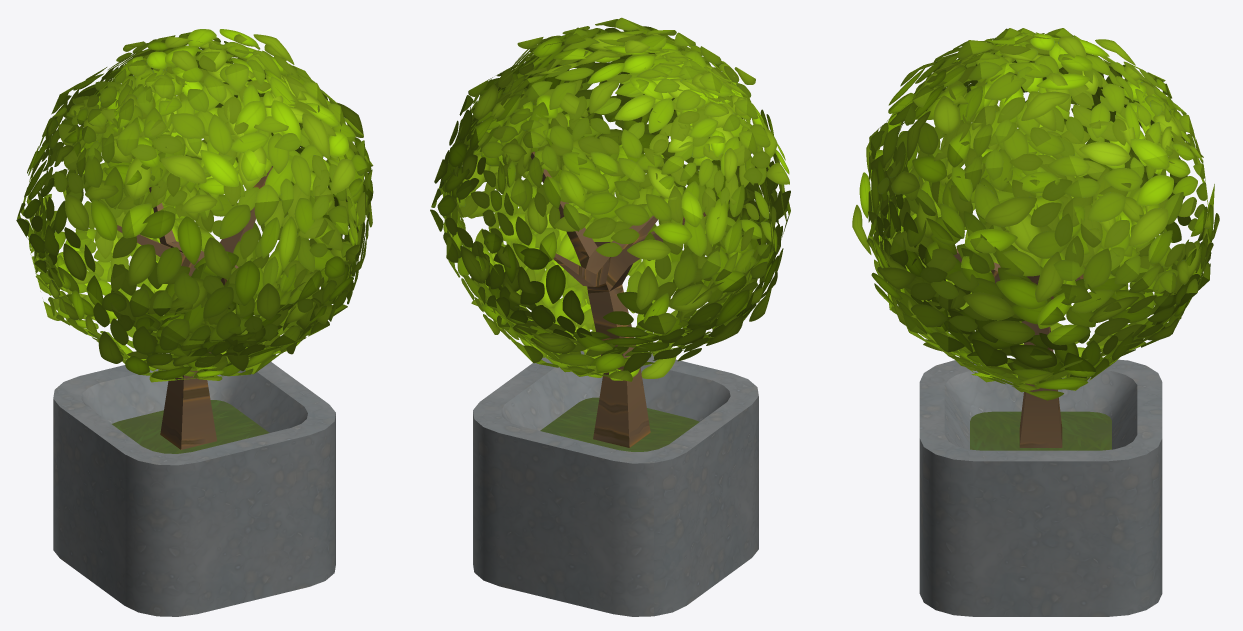
The model's file is flower_pot_big_4.glb.
3 renders of one model, left to right at view 1: azimuth 30°, elevation 25°; view 2: azimuth 150°, elevation 25°; view 3: azimuth 270°, elevation 25°, orthographic. The views are drawn at different scales.
Visible parts, largest first — view 1: plant_pot_4; view 2: plant_pot_4; view 3: plant_pot_4.
Boxes of the visible parts, bbox=[...] form: plant_pot_4: bbox=[16, 29, 373, 616]; plant_pot_4: bbox=[430, 17, 790, 616]; plant_pot_4: bbox=[852, 28, 1219, 616].
Size of what is drawn, in the model's own units: 1.32 by 1.93 by 1.29.
4 materials, 4 textured.
